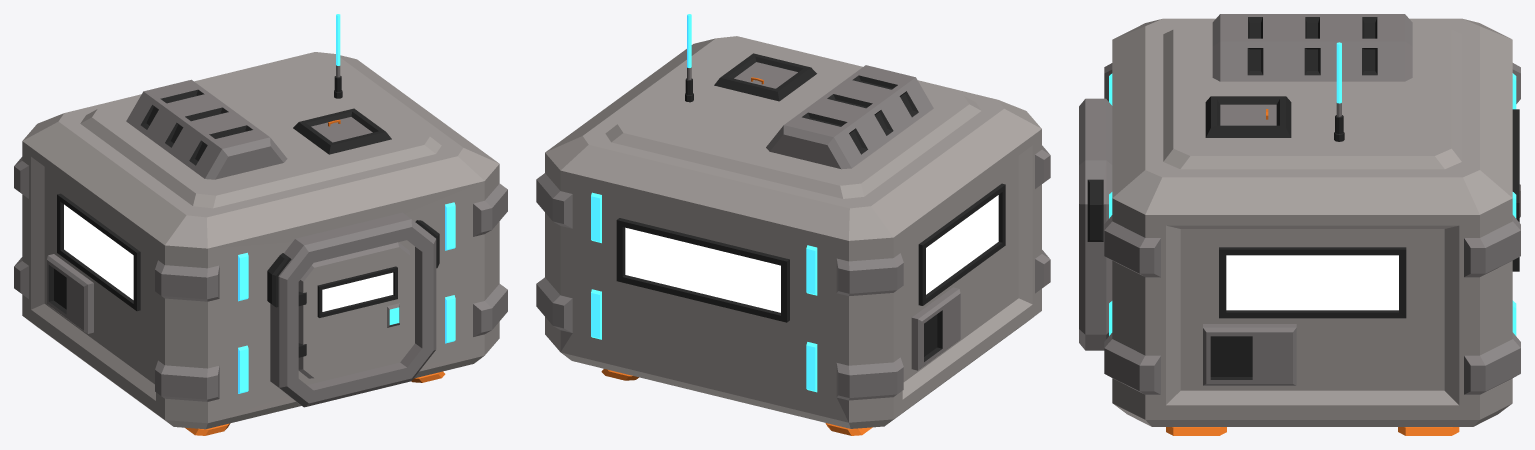
Rendered from scifi-scifi-planet-base-room.glb.
3 renders of one model, left to right at view 1: azimuth 30°, elevation 25°; view 2: azimuth 150°, elevation 25°; view 3: azimuth 270°, elevation 25°, orthographic. The views are drawn at different scales.
Parts seen in each view (by area): view 1: scifi-planet-base-room; view 2: scifi-planet-base-room; view 3: scifi-planet-base-room.
Boxes of the visible parts, x1,y1,x2,y2 form: scifi-planet-base-room: (14, 14, 507, 435); scifi-planet-base-room: (536, 14, 1050, 435); scifi-planet-base-room: (1079, 14, 1520, 435).
Bounding box in the file's own units: 7.04 × 6.14 × 6.62.
